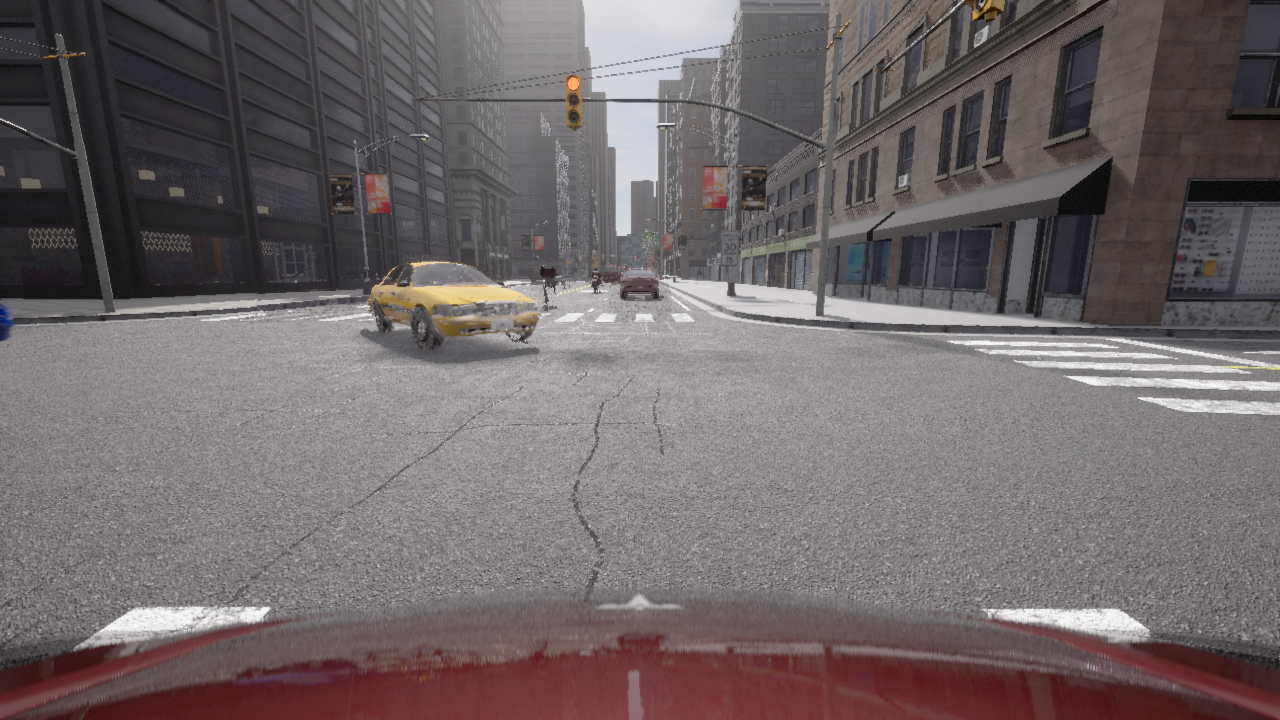cyclist: (0, 588, 1279, 719), (369, 254, 540, 349), (621, 268, 658, 297), (550, 269, 570, 288), (605, 267, 620, 283), (546, 284, 555, 306), (591, 275, 601, 291), (621, 272, 623, 279)
